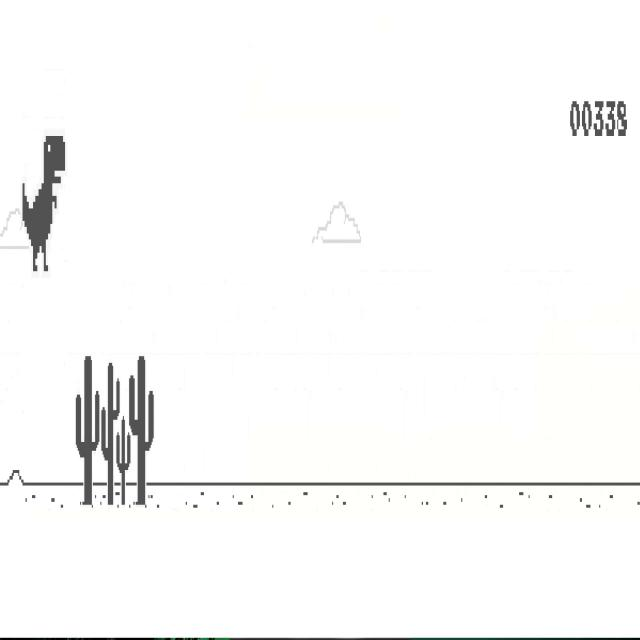cacto: (129, 355, 154, 506), (76, 355, 100, 506), (101, 362, 120, 506), (116, 416, 131, 506)
dino: (23, 134, 66, 272)
